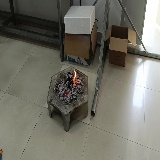fire: (73, 68, 76, 83)
